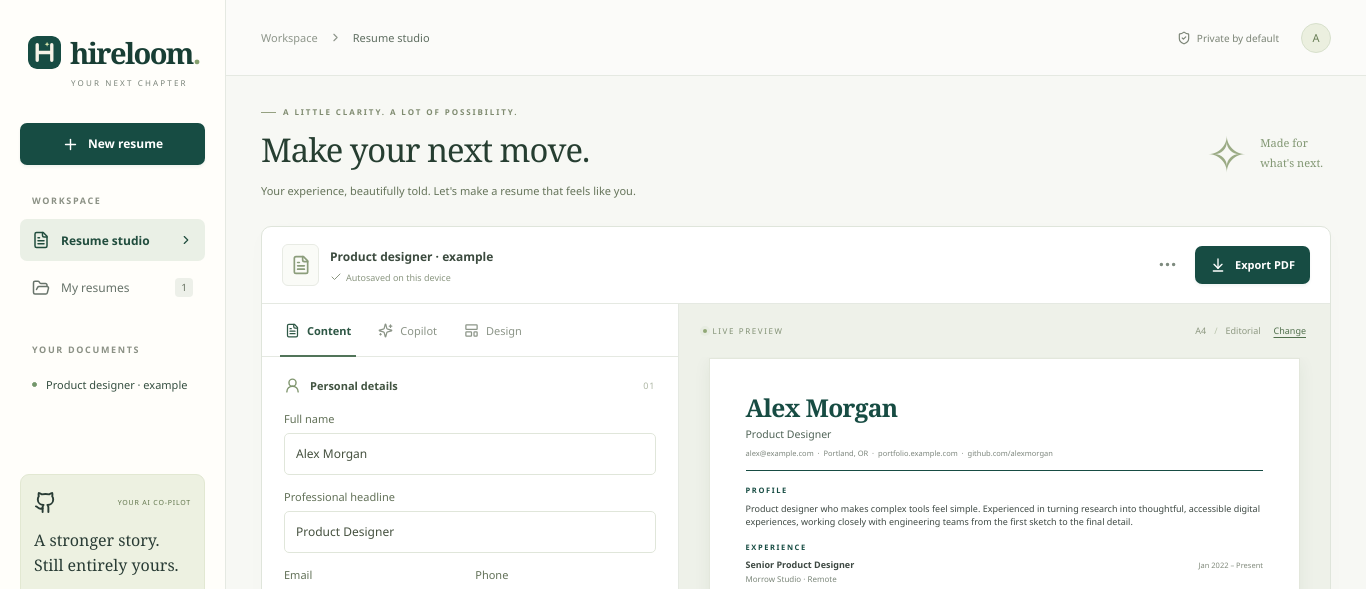
Test case: resume studio › persists edits and surfaces failed saves with recovery actions
The image size is (1366, 589).
Replace the text in the field labelled "Full name" with "Taylor Example" at coordinates (470, 454), box [284,433,656,475]
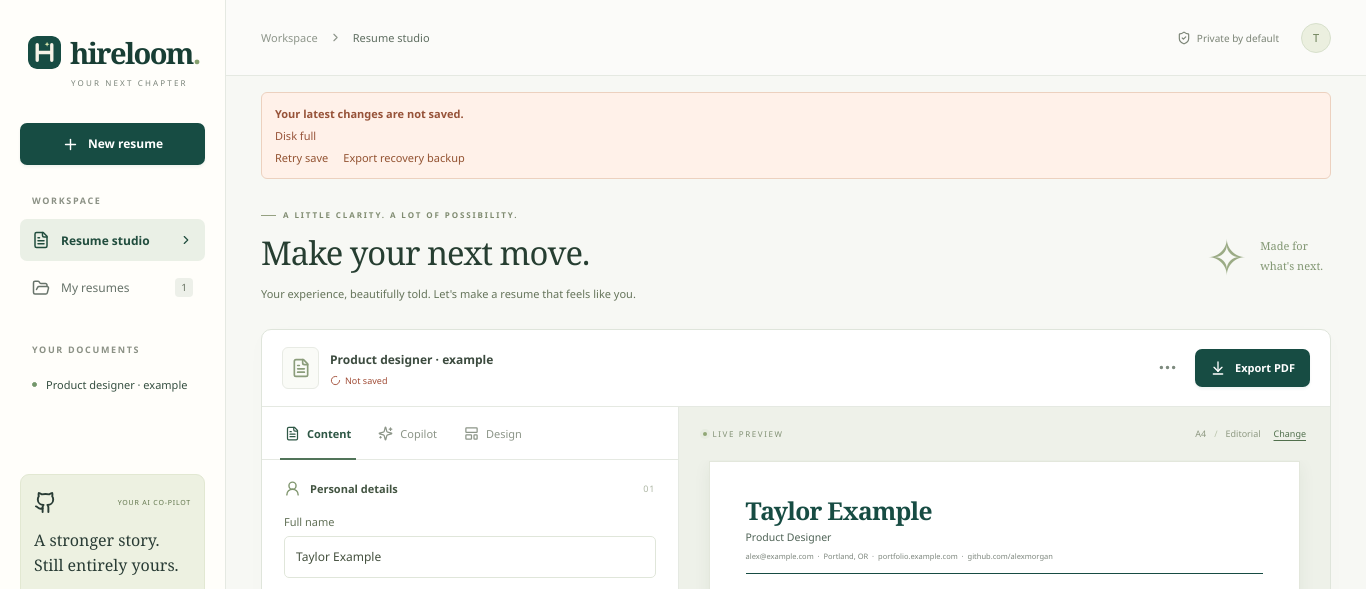
Result: the text "Your latest changes are not saved." is shown at [275,106,464,121]
Result: the message shows "Disk full" at [275,128,316,143]
Result: the button "Export recovery backup" is shown at [343,150,465,165]
Click the button "Retry save" at coordinates (302, 158), box [275,150,328,165]
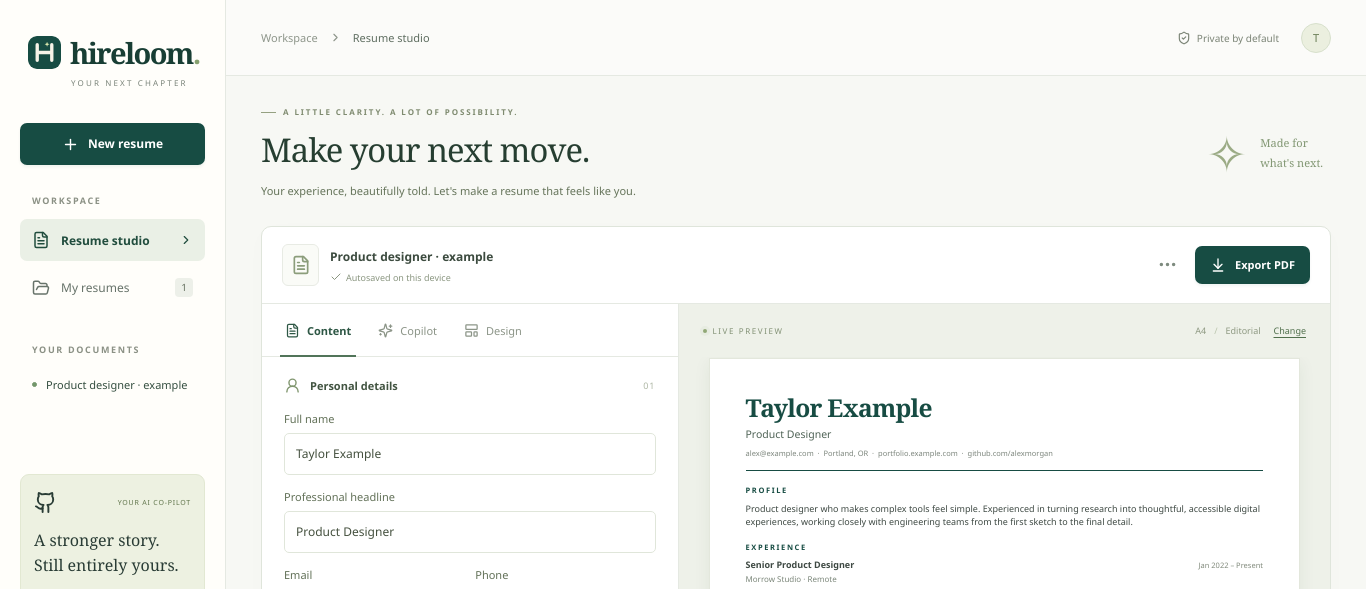
Result: the text "Your latest changes are not saved." is gone
